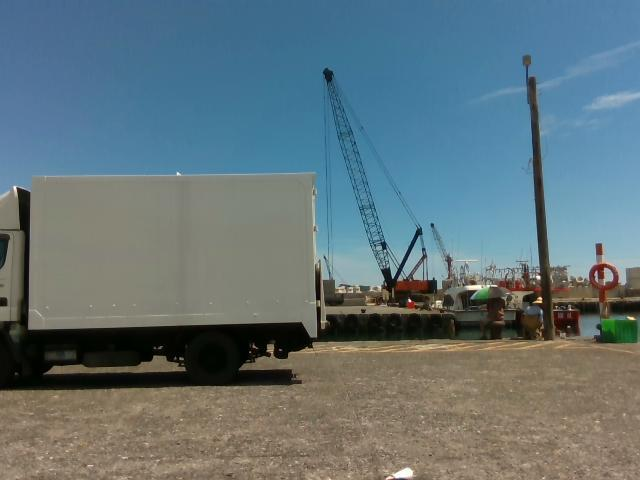pollute: (383, 465, 417, 478)
